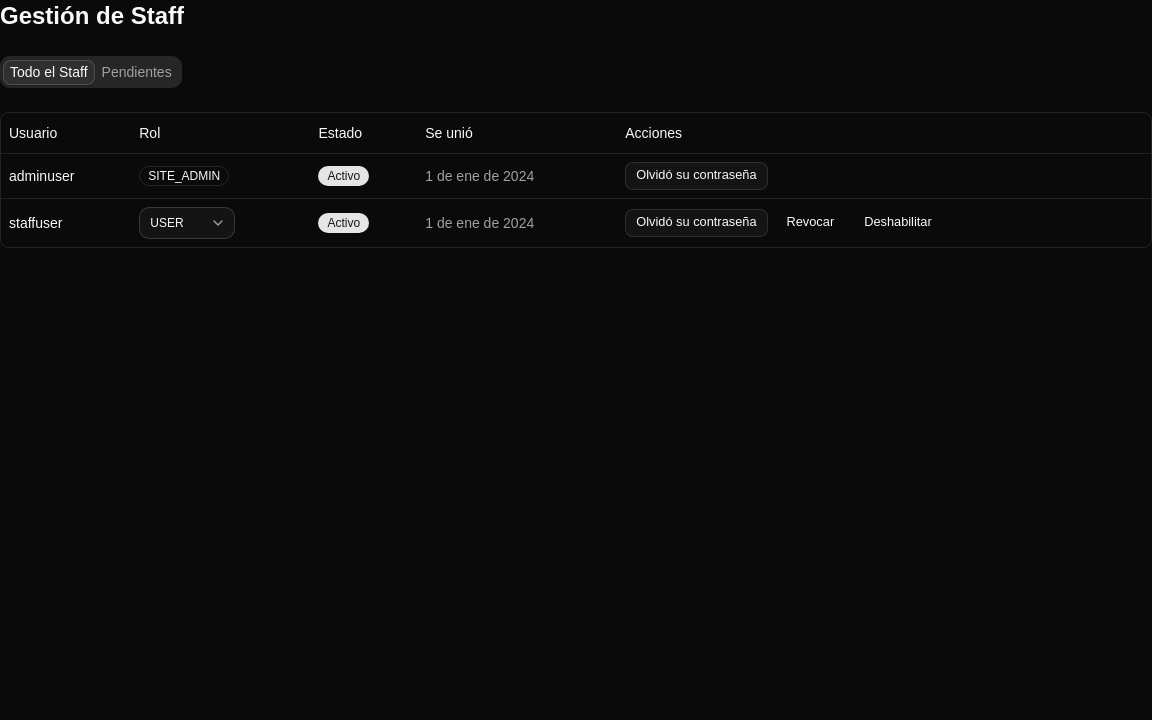
Scenario: RecoveryCodeDialog (via StaffPage) › Cancel button closes the dialog
The width and height of the screenshot is (1152, 720).
Click the button "Olvidó su contraseña" in the row of "adminuser" at (696,176), box [625, 162, 768, 190]
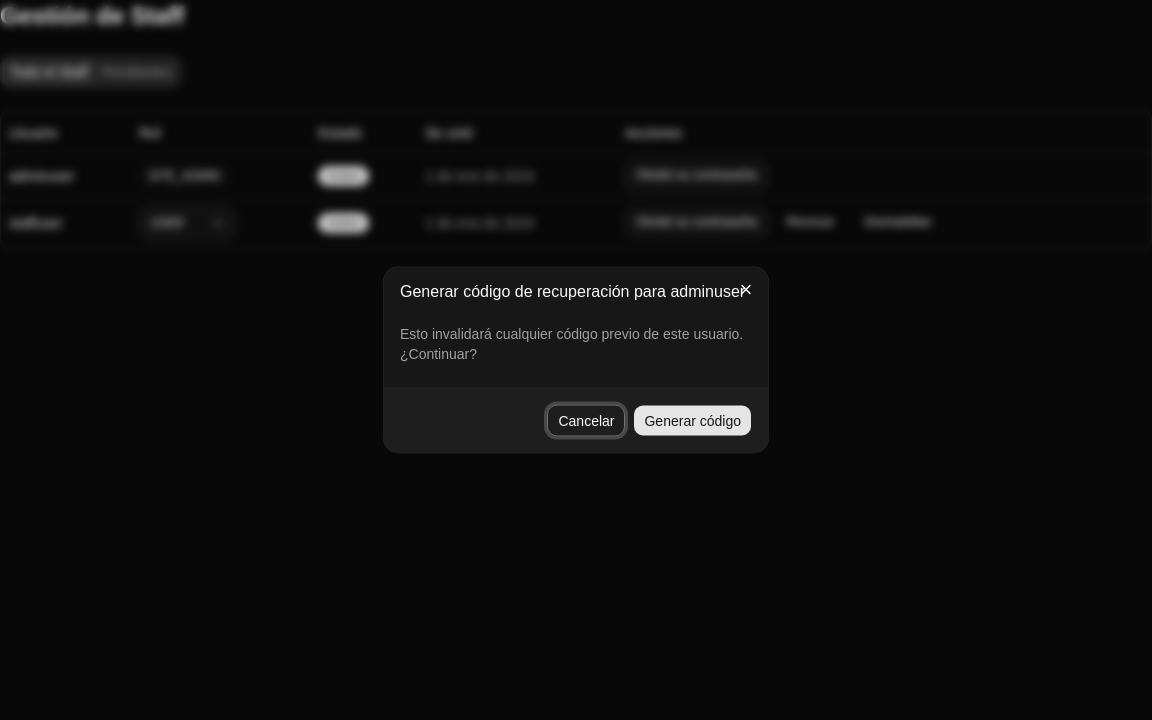
Expected: the heading "Generar código de recuperación para adminuser" is shown, [400, 284, 752, 300]
Click the button "Cancelar" at (586,420), box [548, 404, 626, 436]
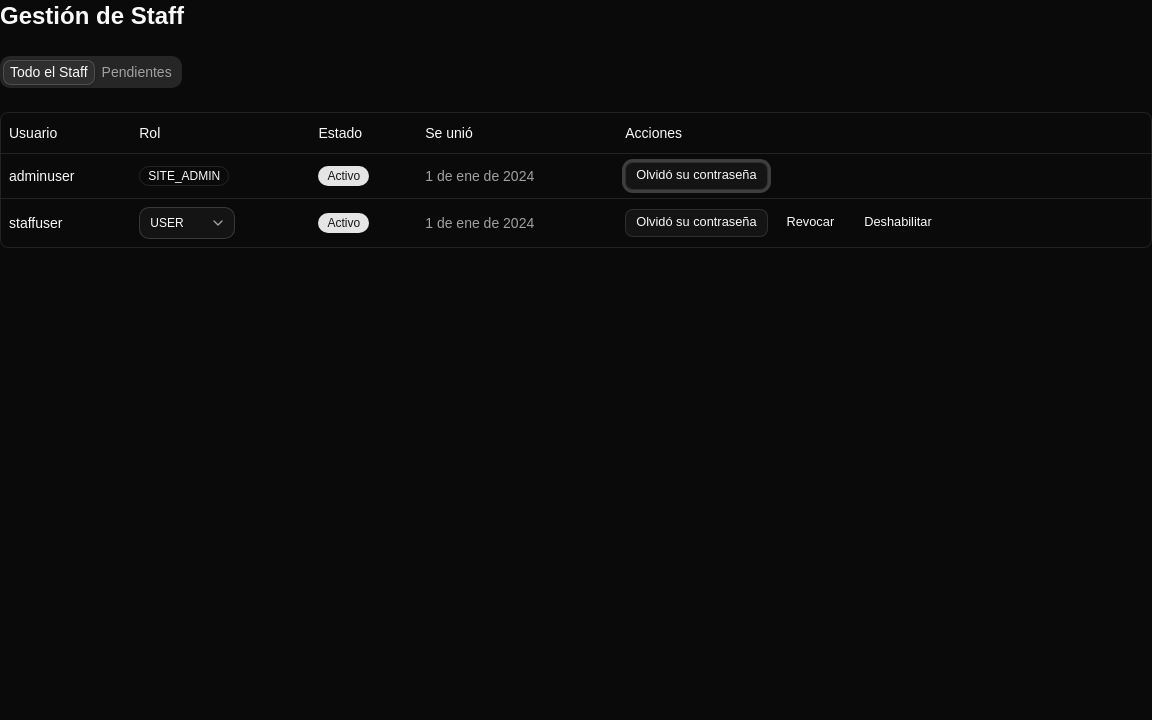
Expected: the heading "Generar código de recuperación para" is gone
